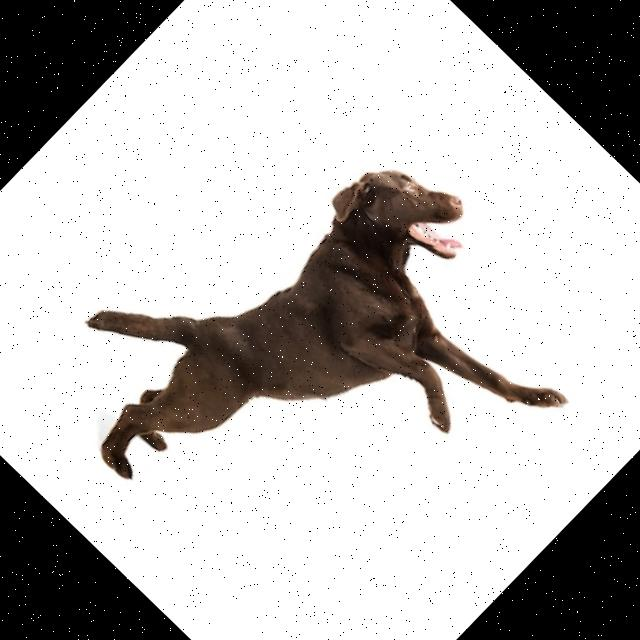Dog: (23, 71, 617, 640)
